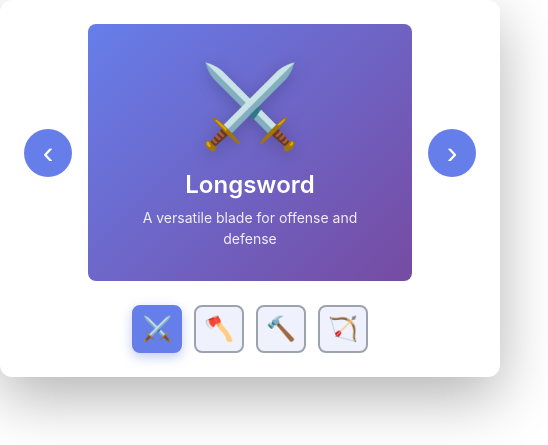
Test: WeaponPicker › navigates to previous weapon when previous button is clicked
Click the button named "Previous weapon" at x=48, y=152, box [24, 128, 72, 176]
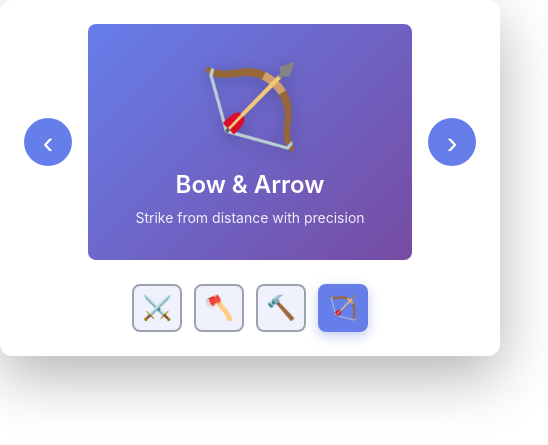
Result: the heading "Bow & Arrow" is shown at [176, 170, 324, 199]
Result: the text "Strike from distance with precision" is shown at [135, 207, 364, 228]
